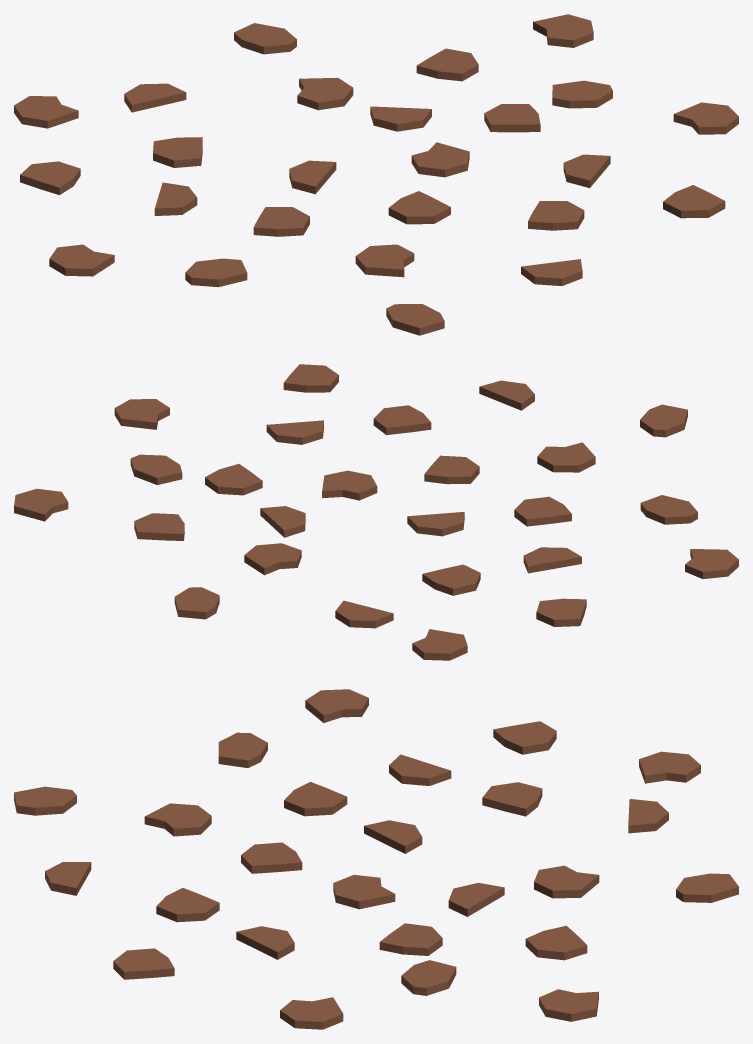
The model's file is SM_Pizza_Sausage.glb.
3 renders of one model, top to bottom at view 1: azimuth 30°, elevation 25°; view 2: azimuth 150°, elevation 25°; view 3: azimuth 270°, elevation 25°, orthographic. The views are drawn at different scales.
Parts seen in each view (by area): view 1: SM_Pizza_Sausage; view 2: SM_Pizza_Sausage; view 3: SM_Pizza_Sausage.
Boxes of the visible parts, x1=… form: SM_Pizza_Sausage: x1=14, y1=14, x2=738, y2=335; SM_Pizza_Sausage: x1=14, y1=364, x2=738, y2=660; SM_Pizza_Sausage: x1=14, y1=689, x2=738, y2=1029.
Bounding box in the file's own units: 0.3597 × 0.00392 × 0.3312.
Materials: 1 (1 with a texture image).
